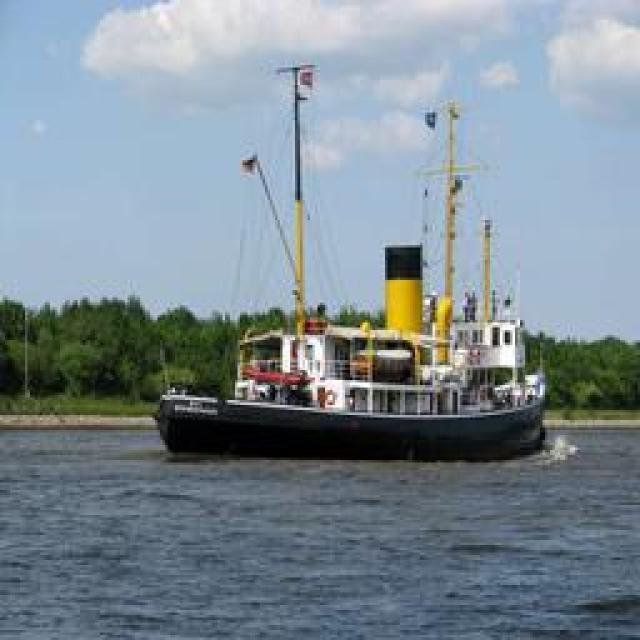CIV_Ship: (168, 80, 546, 470)
